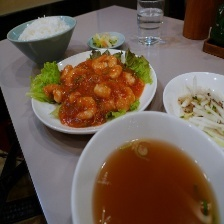rice: (7, 10, 82, 50)
